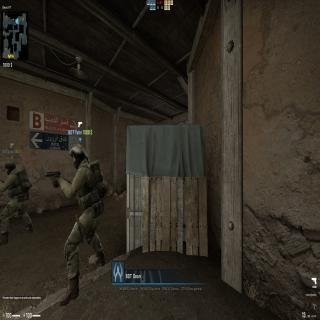CT-Head: (68, 144, 89, 171), (4, 160, 17, 178)
